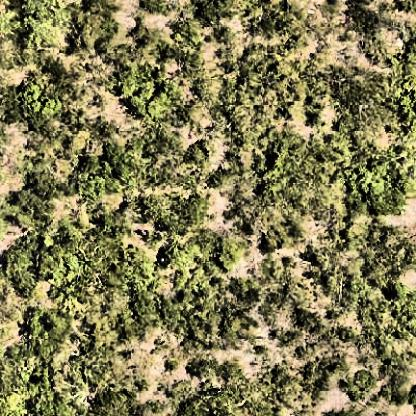tree-top: (4, 227, 109, 300), (267, 132, 345, 214), (336, 145, 412, 219), (106, 60, 192, 124), (83, 147, 148, 204), (10, 78, 63, 125)
